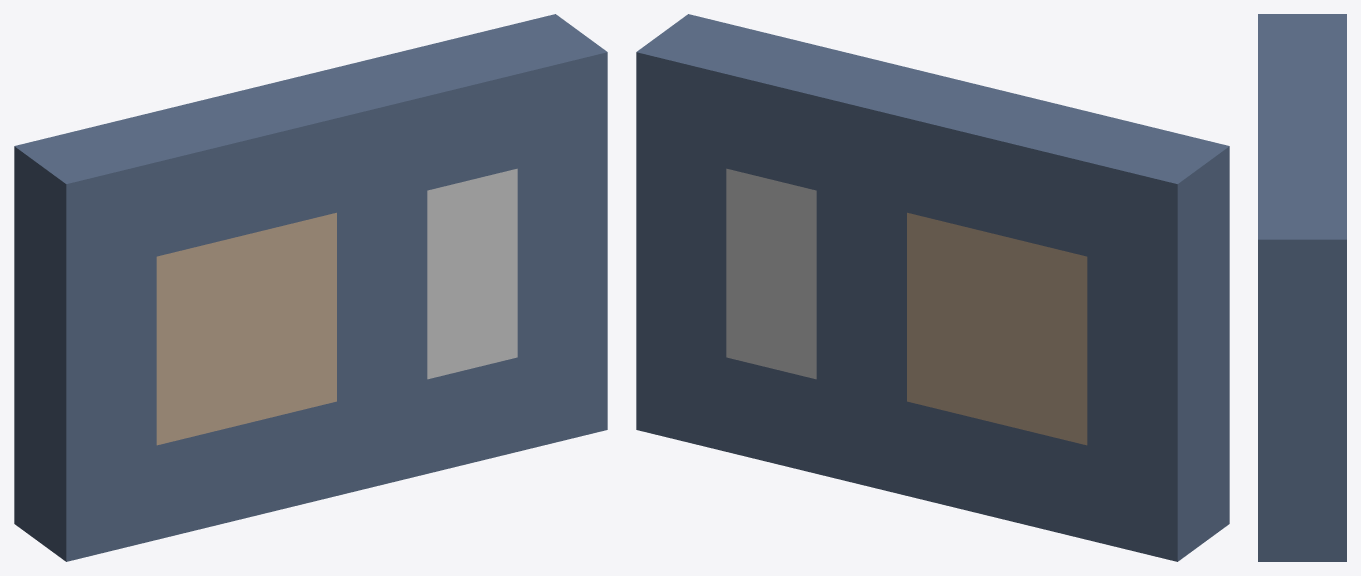
File: titre_residence.glb
The picture shows the model from 3 angles, left to right: view 1: azimuth 30°, elevation 25°; view 2: azimuth 150°, elevation 25°; view 3: azimuth 270°, elevation 25°; orthographic projection. The views are drawn at different scales.
Visible parts, largest first — view 1: main; view 2: main; view 3: main.
Part boxes in pixels (box(x1,y1,x2,y2)): main: box(14, 14, 607, 561); main: box(636, 14, 1229, 561); main: box(1258, 14, 1346, 561).
Size of the model in its own units: 0.375 by 0.25 by 0.0625.
